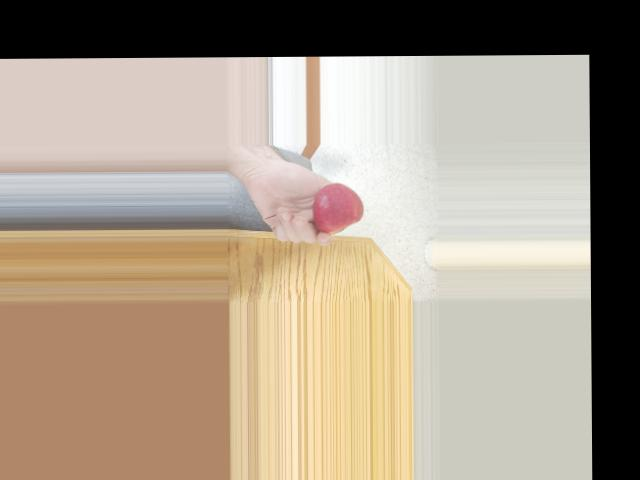apple: (309, 182, 365, 235)
